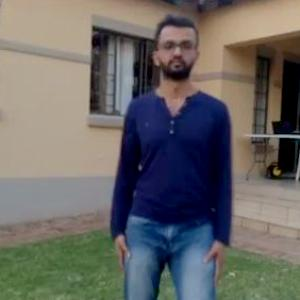follow: (104, 44, 203, 299)
